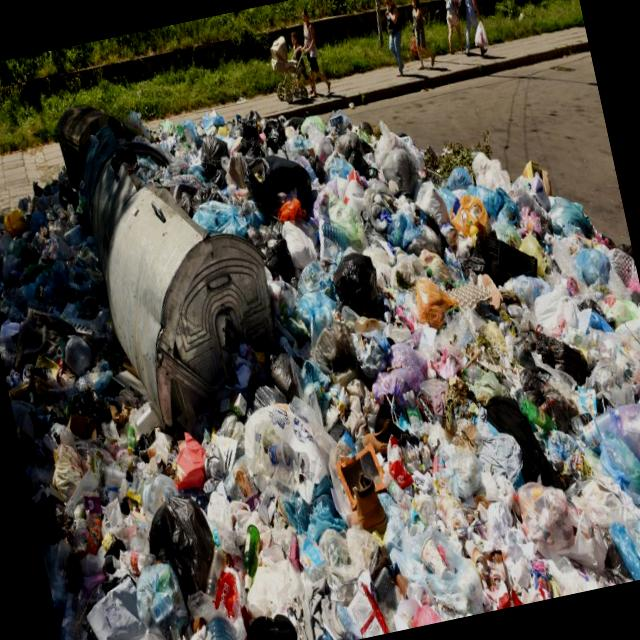garbage: (0, 71, 573, 640)
